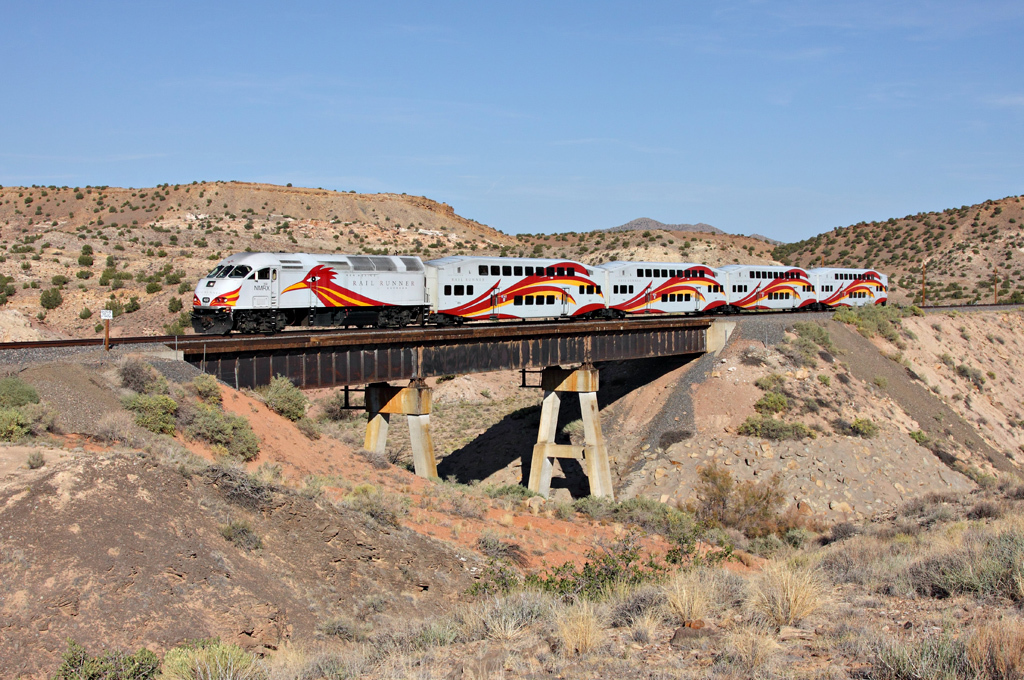train: (190, 253, 883, 334)
